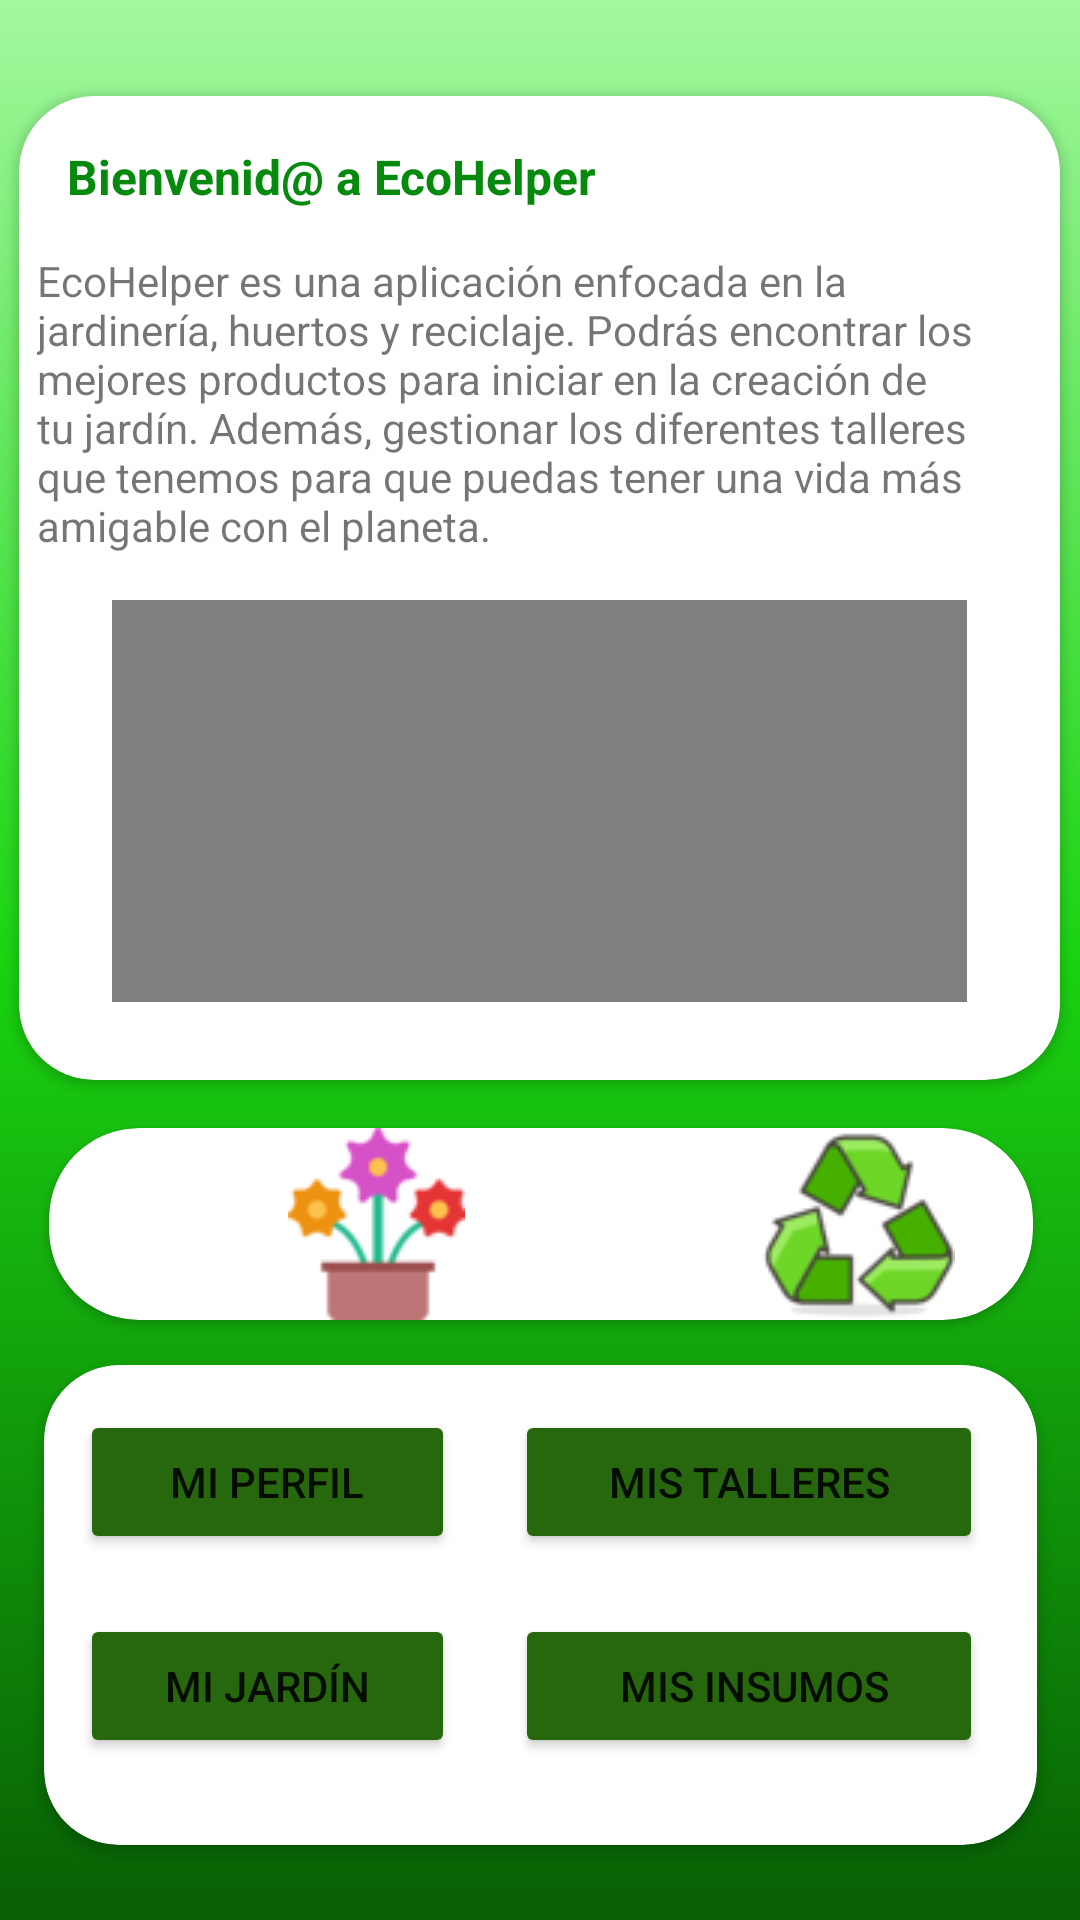

Icons on this 1080×1920 Android screen, each with the point to tap as point (x, y):
flores: point (376, 1224)
reciclaje: point (859, 1224)
